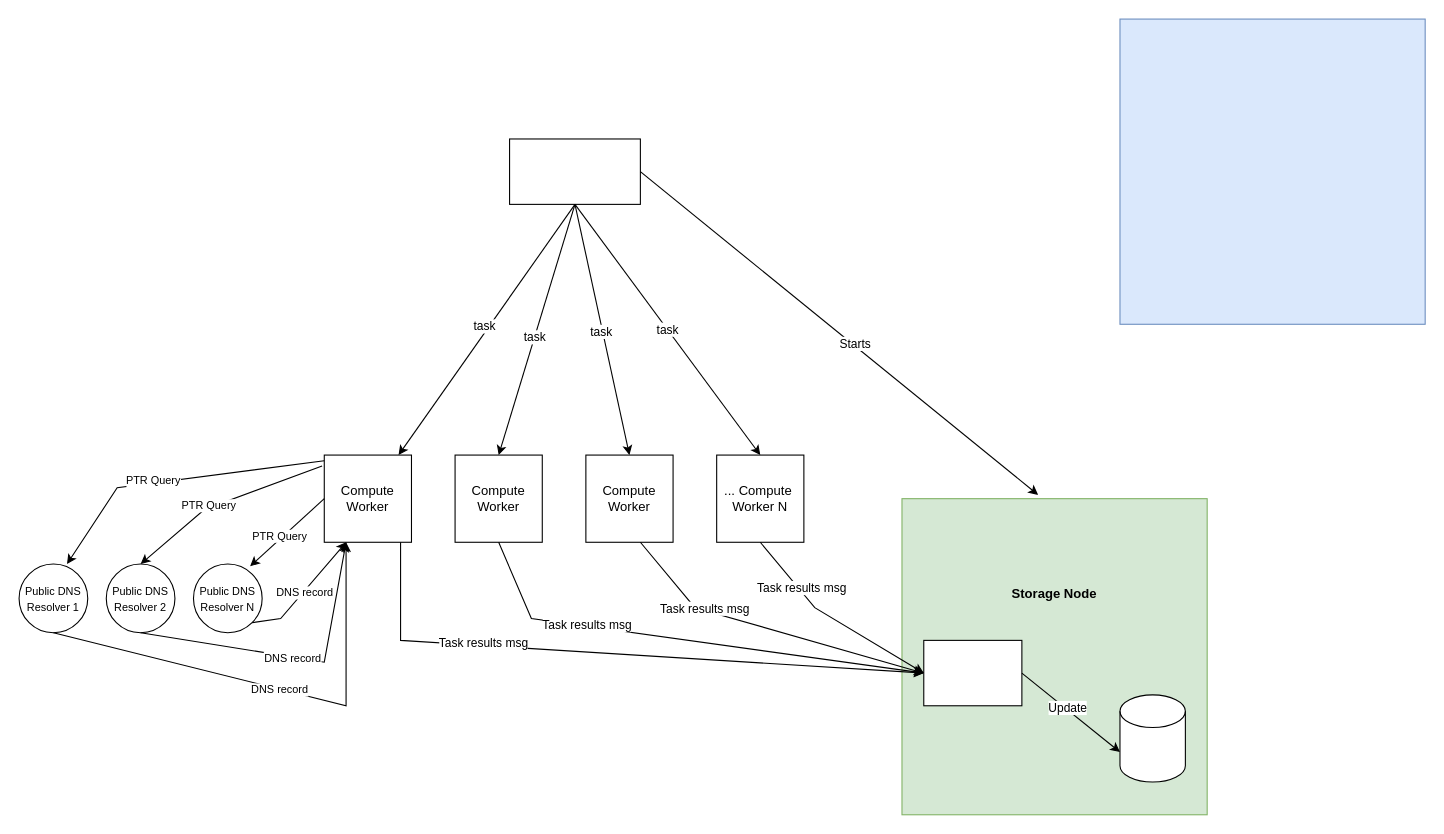
Image size: 1444x834. Some labels were removed from this diagram. Here are the shapes that lost their labels. From the top down, the centre of each, then its label:
point (574, 171): Master
point (1272, 171): Compute Node
point (972, 672): Messaging Service
point (1152, 738): Storage
